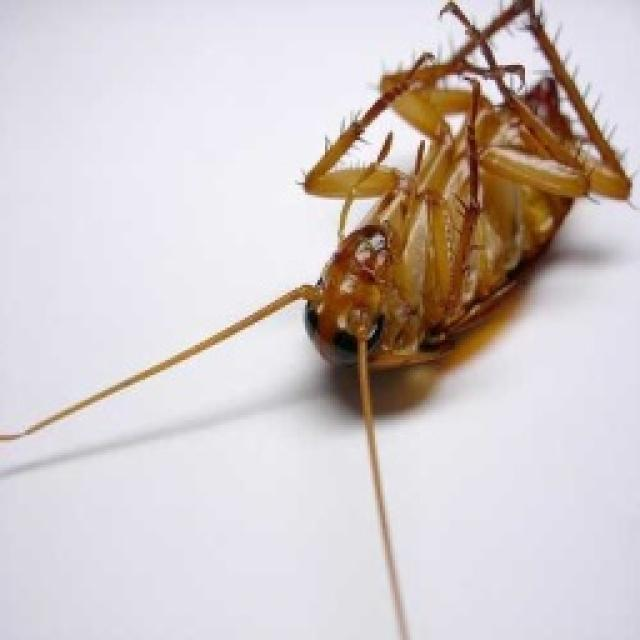cockroach: (2, 2, 635, 635)
